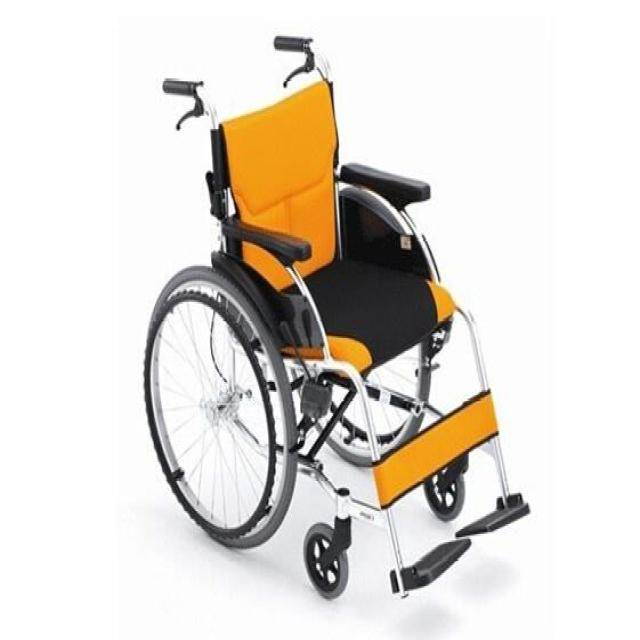wheelchairs: (116, 22, 546, 613)
